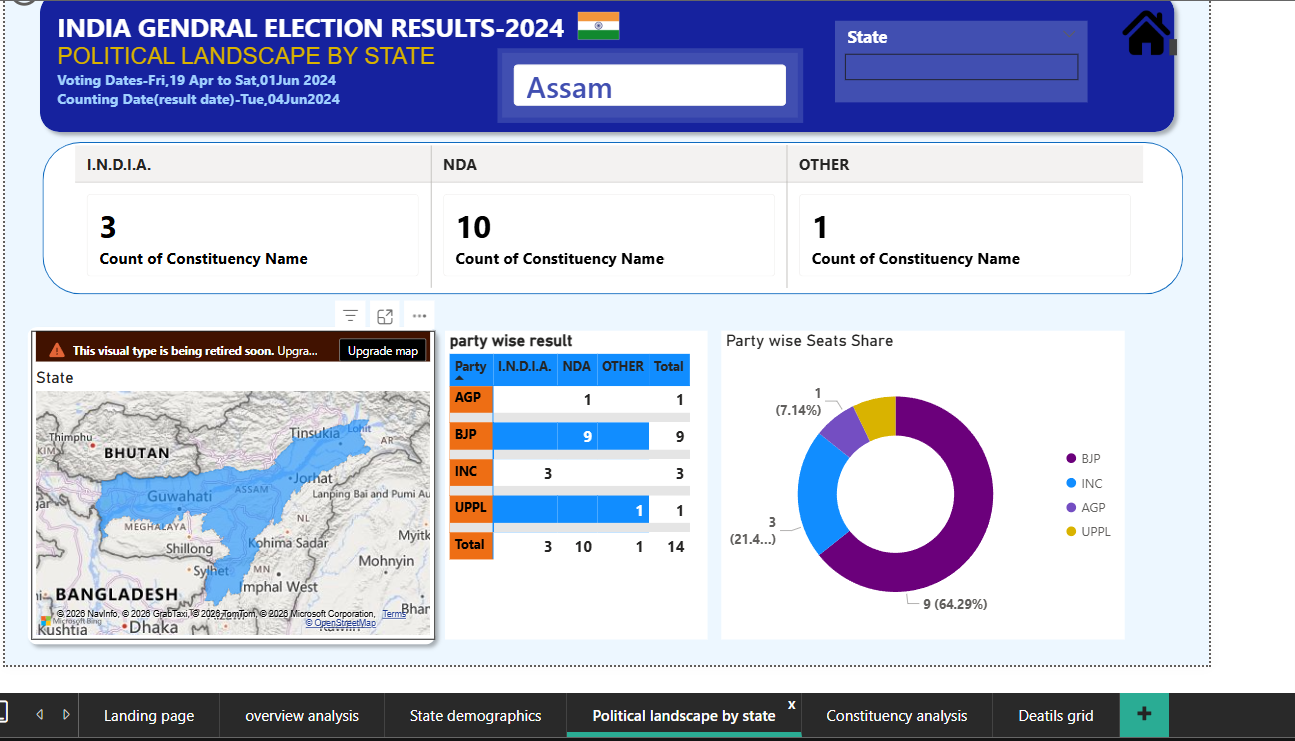

What the dashboard file says about the page in this screenshot:
{"tool":"powerbi","page":{"name":"Political landscape by state","canvas":[1250,720],"ordinal":3},"visuals":[{"type":"shape","box":[38.8,176.1,1185.1,158.2],"z":0},{"type":"cardVisual","fields":{"Data":["CountNonNull(constituencywise_results.Constituency Name)"],"Rows":["constituencywise_results.Party_Alliance (result)"]},"box":[48.5,175,1160.3,158.8],"z":1000},{"type":"shape","box":[26.8,13.4,1196.7,162.1],"z":2000},{"type":"textbox","box":[59,64.3,1164.5,30.8],"z":3000},{"type":"actionButton","box":[0,0,100,40],"z":4000},{"type":"textbox","box":[49.6,33.5,758.5,123.3],"z":5000},{"type":"image","box":[588.3,33.5,56.3,44.2],"z":6000},{"type":"slicer","fields":{"Values":["states.State"]},"box":[862.7,50.7,262.7,85.1],"z":7000},{"type":"shape","box":[14.9,359.7,441.8,347.8],"z":8000},{"type":"filledMap","fields":{"Category":["states.State"]},"box":[26.9,373.1,419.4,320.9],"z":9000},{"type":"pivotTable","title":"party wise result","fields":{"Rows":["partywise_results.Party_short"],"Values":["CountNonNull(constituencywise_results.Constituency Name)"],"Columns":["constituencywise_results.Party_Alliance (result)"]},"box":[456.7,373.1,273.1,320.9],"z":10000},{"type":"donutChart","title":"Party wise Seats Share ","fields":{"Y":["CountNonNull(constituencywise_results.Constituency Name)"],"Category":["constituencywise_results.party_short"]},"box":[744.8,373.1,419.4,320.9],"z":11000},{"type":"cardVisual","fields":{"Data":["Min(states.State)"]},"box":[511.9,79.1,317.9,77.6],"z":12000}]}

Visuals, with their boxes on the page's 1250x720 design canvas (x1, y1, x2, y2). These are canvas units, not pixel positions in the 1295x741 screenshot, which may show the page scaled, cropped or inside an application window:
shape: BBox(39, 176, 1224, 334)
cardVisual - CountNonNull(constituencywise_results.Constituency Name) x constituencywise_results.Party_Alliance (result): BBox(48, 175, 1209, 334)
shape: BBox(27, 13, 1224, 176)
textbox: BBox(59, 64, 1224, 95)
actionButton: BBox(0, 0, 100, 40)
textbox: BBox(50, 34, 808, 157)
image: BBox(588, 34, 645, 78)
slicer - states.State: BBox(863, 51, 1125, 136)
shape: BBox(15, 360, 457, 708)
filledMap - states.State: BBox(27, 373, 446, 694)
"party wise result" pivotTable: BBox(457, 373, 730, 694)
"Party wise Seats Share " donutChart: BBox(745, 373, 1164, 694)
cardVisual - Min(states.State): BBox(512, 79, 830, 157)
